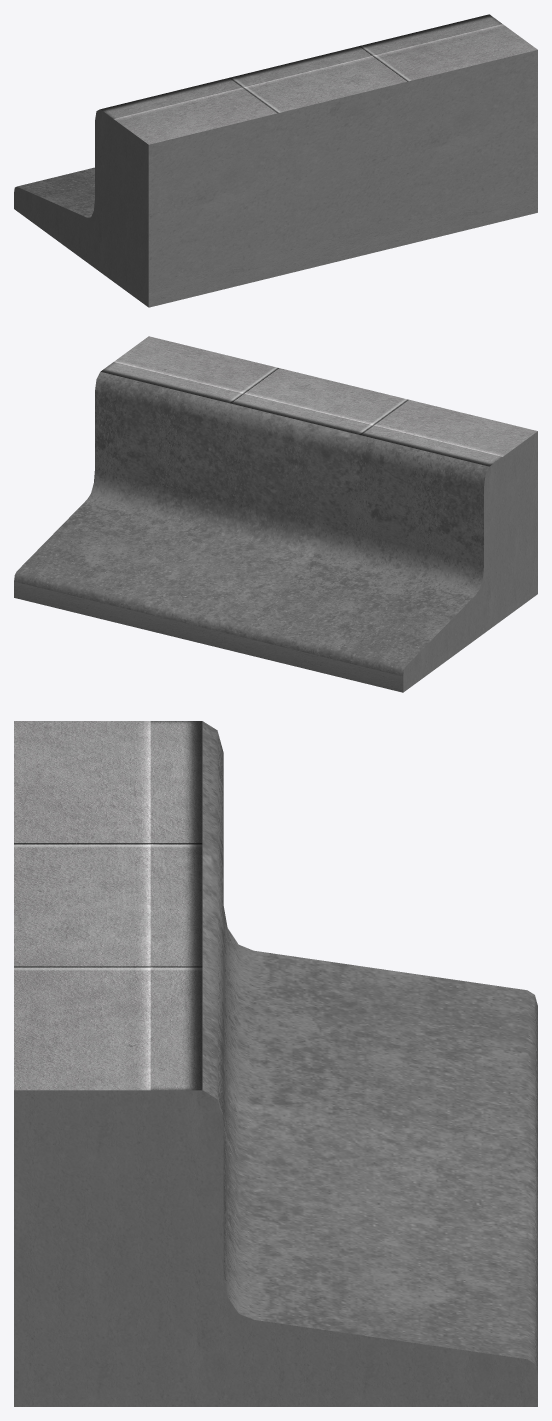
File: public_seat_B.fbx
3 views of the same model, one above another, from view 1: azimuth 30°, elevation 25°; view 2: azimuth 150°, elevation 25°; view 3: azimuth 270°, elevation 25° (orthographic). The views are drawn at different scales.
Visible parts, largest first — view 1: public_seat_B; view 2: public_seat_B; view 3: public_seat_B.
Boxes of the visible parts, <box> form: public_seat_B: <box>14,14,537,307</box>; public_seat_B: <box>14,336,537,692</box>; public_seat_B: <box>14,721,537,1406</box>.
Bounding box in the file's own units: 1 × 0.4 × 0.6.
